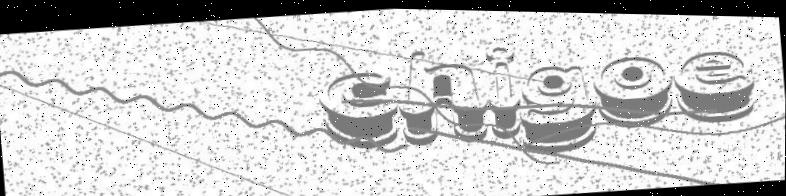c: (316, 65, 402, 153)
e: (671, 42, 760, 125)
g: (517, 56, 601, 154)
h: (393, 41, 492, 147)
i: (483, 40, 525, 138)
o: (591, 49, 677, 130)
